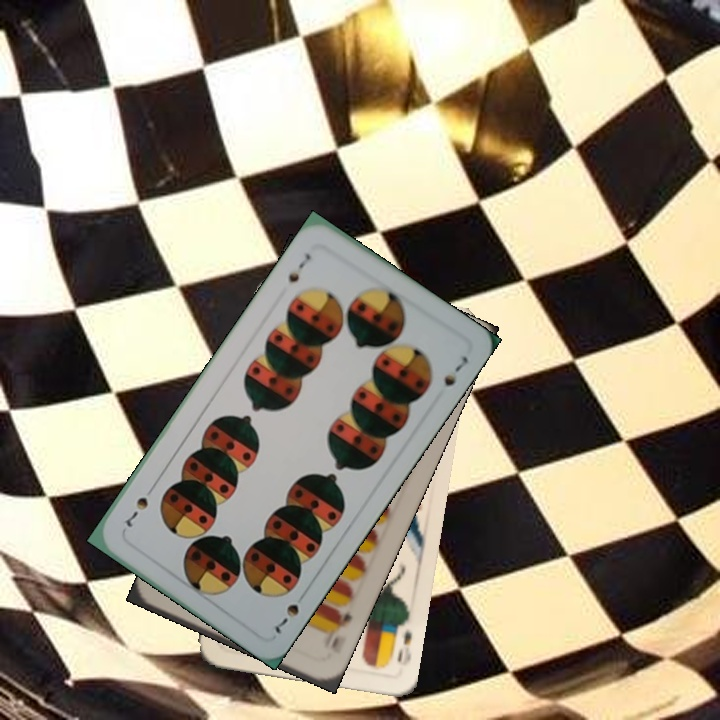E10: (320, 606, 355, 651)
EO: (392, 626, 415, 668)
S7: (270, 587, 309, 639), (284, 249, 314, 286)
